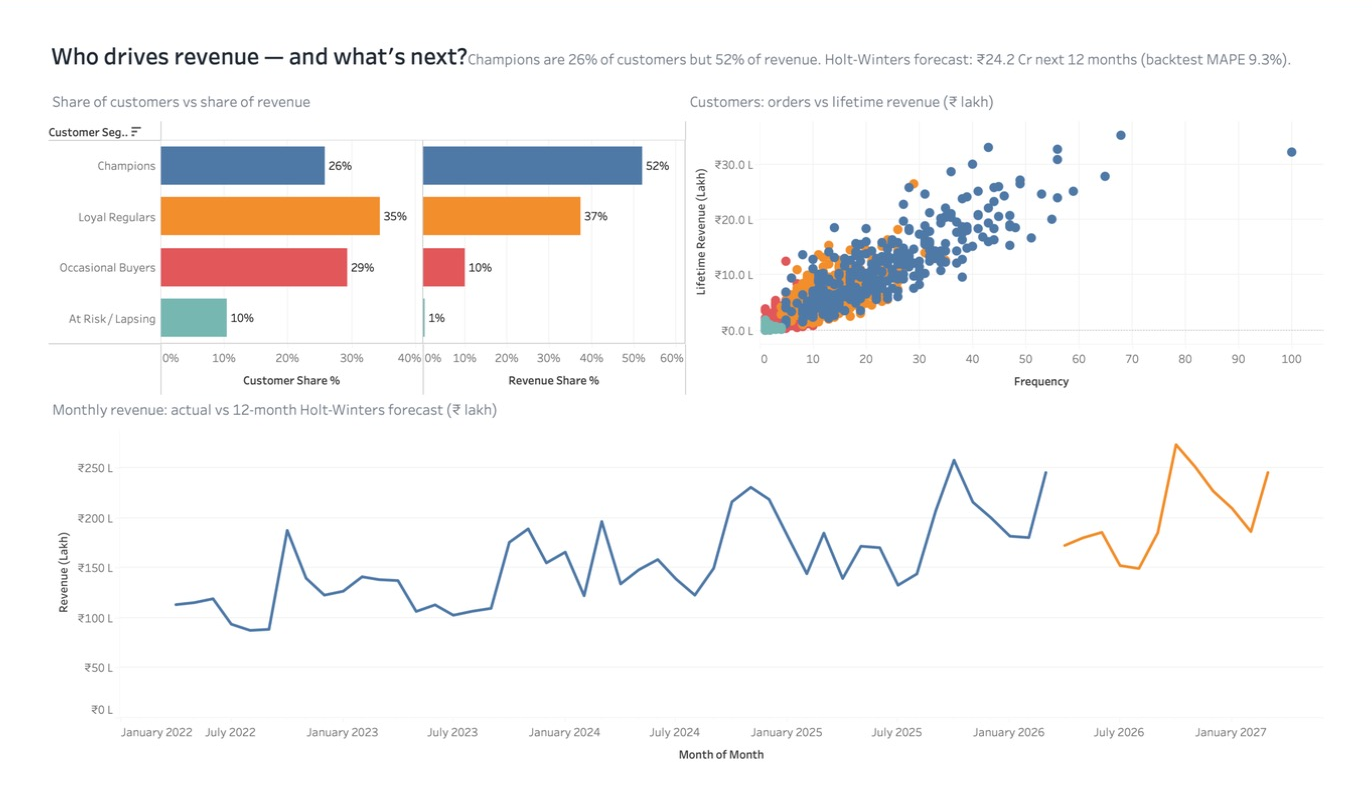

This screenshot's page, from the dashboard's own definition file:
{"tool":"tableau","page":{"name":"Customers & Forecast","canvas":[1366,800],"ordinal":2},"visuals":[{"type":"text","box":[0,0,1366,70]},{"type":"worksheet","title":"Segment Share","mark":"Bar","rows":["Customer Segment (Cluster)"],"cols":["Calculation_2001","Calculation_2002"],"box":[0,70,683,330]},{"type":"worksheet","title":"Customer RFM Scatter","mark":"Circle","rows":["Calculation_2003"],"cols":["Frequency"],"box":[683,70,683,330]},{"type":"worksheet","title":"Revenue Forecast","mark":"Line","rows":["Calculation_3001"],"cols":["Month"],"box":[0,400,1366,400]}]}

Visuals, with their boxes in screenshot pixels (x1, y1, x2, y2), scaled from the page's 1366x800 canvas onto the 1372x792 screenshot:
text: bbox=[0, 0, 1371, 69]
"Segment Share" worksheet (Bar marks): bbox=[0, 69, 686, 396]
"Customer RFM Scatter" worksheet (Circle marks): bbox=[686, 69, 1371, 396]
"Revenue Forecast" worksheet (Line marks): bbox=[0, 396, 1371, 791]
